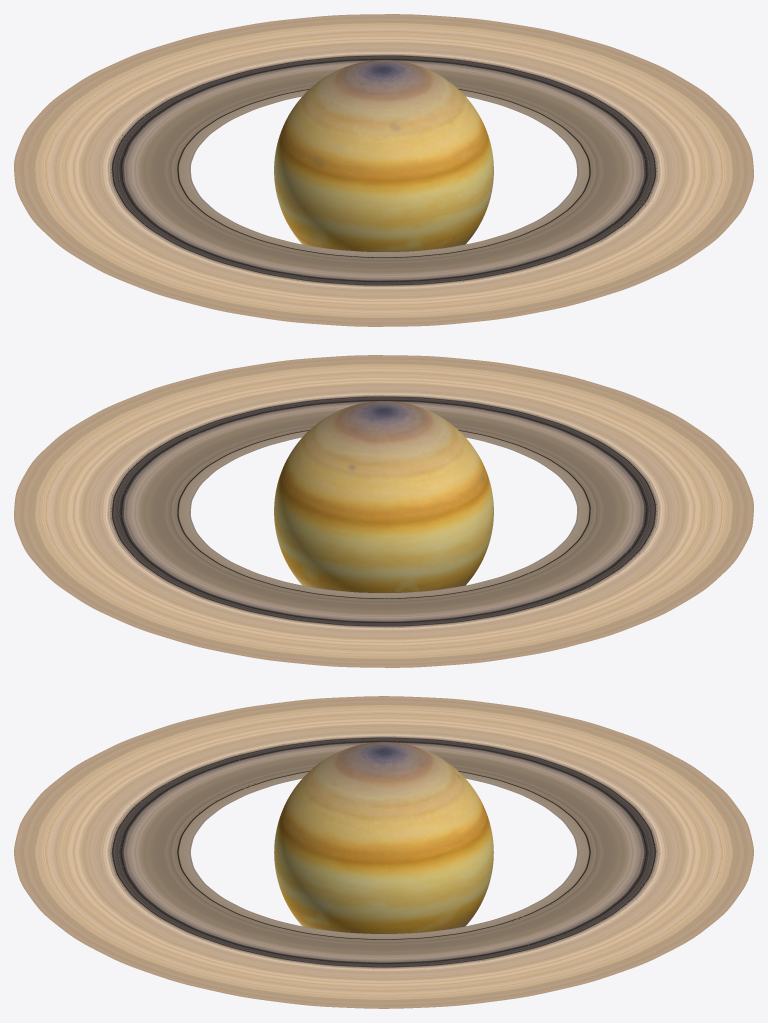
The model's file is saturn-1.fbx.
The picture shows the model from 3 angles, top to bottom: view 1: azimuth 30°, elevation 25°; view 2: azimuth 150°, elevation 25°; view 3: azimuth 270°, elevation 25°; orthographic projection.
Visible parts, largest first — view 1: Circle, Sphere; view 2: Circle, Sphere; view 3: Circle, Sphere.
Boxes of the visible parts, x1,y1,x2,y2 form: Circle: (14, 14, 753, 326); Sphere: (274, 60, 493, 251); Circle: (14, 355, 753, 667); Sphere: (274, 401, 493, 592); Circle: (14, 696, 753, 1008); Sphere: (274, 742, 493, 933).
Size of the model in its own units: 665 by 200 by 665.
Materials: 2 (2 with a texture image).
